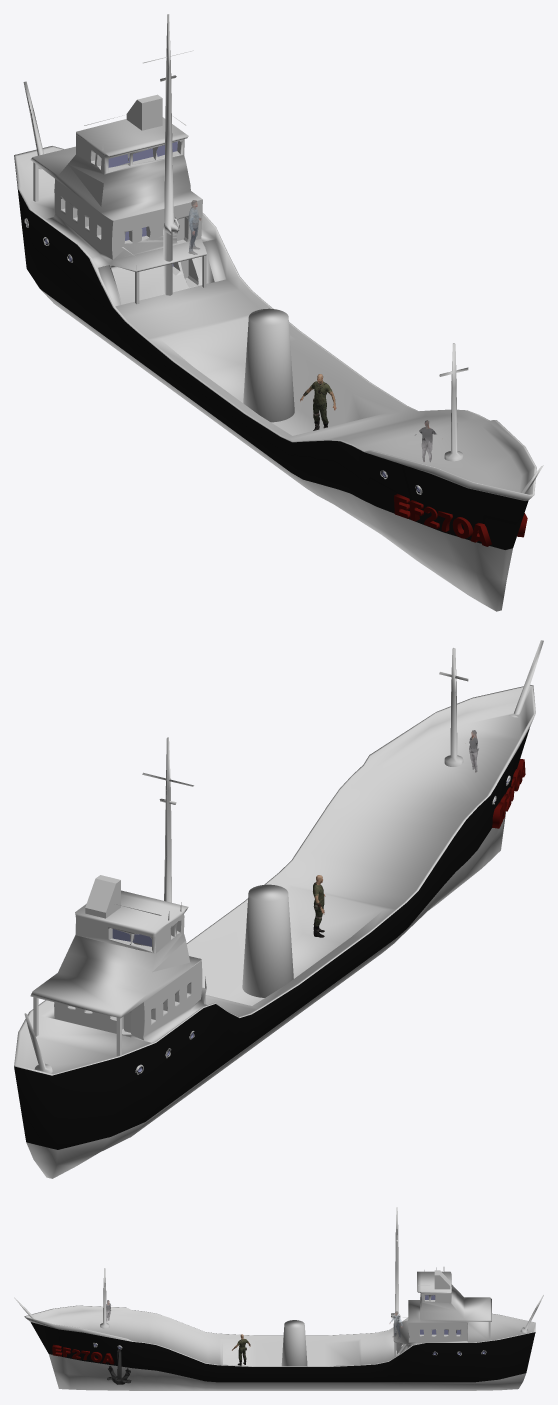
The model's file is D4_Ship9.glb.
The picture shows the model from 3 angles, top to bottom: view 1: azimuth 30°, elevation 25°; view 2: azimuth 150°, elevation 25°; view 3: azimuth 270°, elevation 25°; orthographic projection. The views are drawn at different scales.
Parts seen in each view (by area): view 1: Object_6, Object_2, Cylinder, Text.001, Clotch_up; view 2: Object_6, Object_2, Cylinder, Text.001; view 3: Object_6, Object_2, Cylinder, Text, Clotch_up.
Boxes of the visible parts, x1=… form: Object_6: x1=14, y1=14, x2=543, y2=611; Object_2: x1=14, y1=162, x2=528, y2=549; Cylinder: x1=243, y1=308, x2=294, y2=422; Text.001: x1=394, y1=493, x2=491, y2=546; Clotch_up: x1=300, y1=374, x2=336, y2=430; Object_6: x1=14, y1=640, x2=543, y2=1178; Object_2: x1=14, y1=728, x2=529, y2=1149; Cylinder: x1=242, y1=884, x2=293, y2=997; Text.001: x1=492, y1=759, x2=525, y2=828; Object_6: x1=14, y1=1207, x2=543, y2=1390; Object_2: x1=30, y1=1322, x2=535, y2=1382; Cylinder: x1=281, y1=1320, x2=307, y2=1366; Text: x1=52, y1=1344, x2=114, y2=1364; Clotch_up: x1=232, y1=1334, x2=250, y2=1365.
Size of the model in its own units: 6.51 by 16.34 by 43.35.
Materials: 16 (11 with a texture image).
